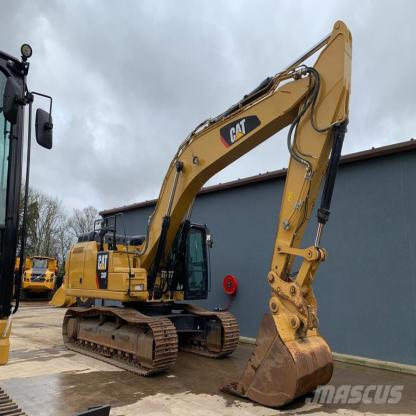excavator: (58, 9, 352, 410)
